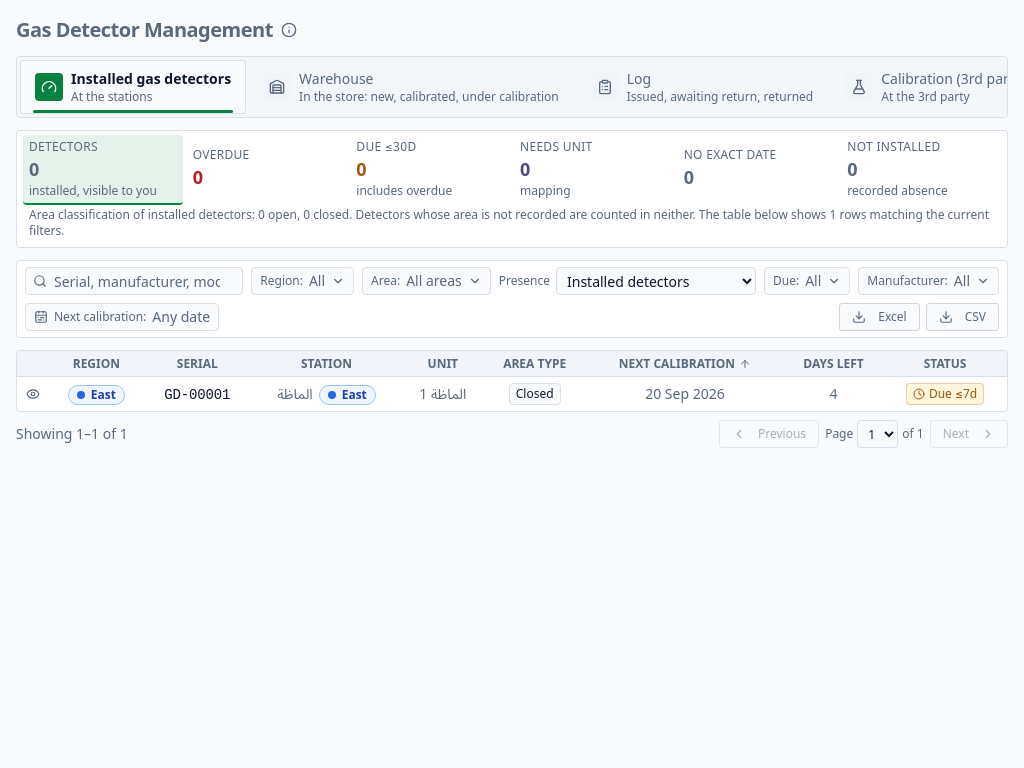
Scenario: Accessibility › exposes the technical record through a labelled disclosure control
Expected: the text "GD-00001" is shown, [164,386,230,402]
Click the button named "show the full technical record": (33, 394) [23,384,43,404]
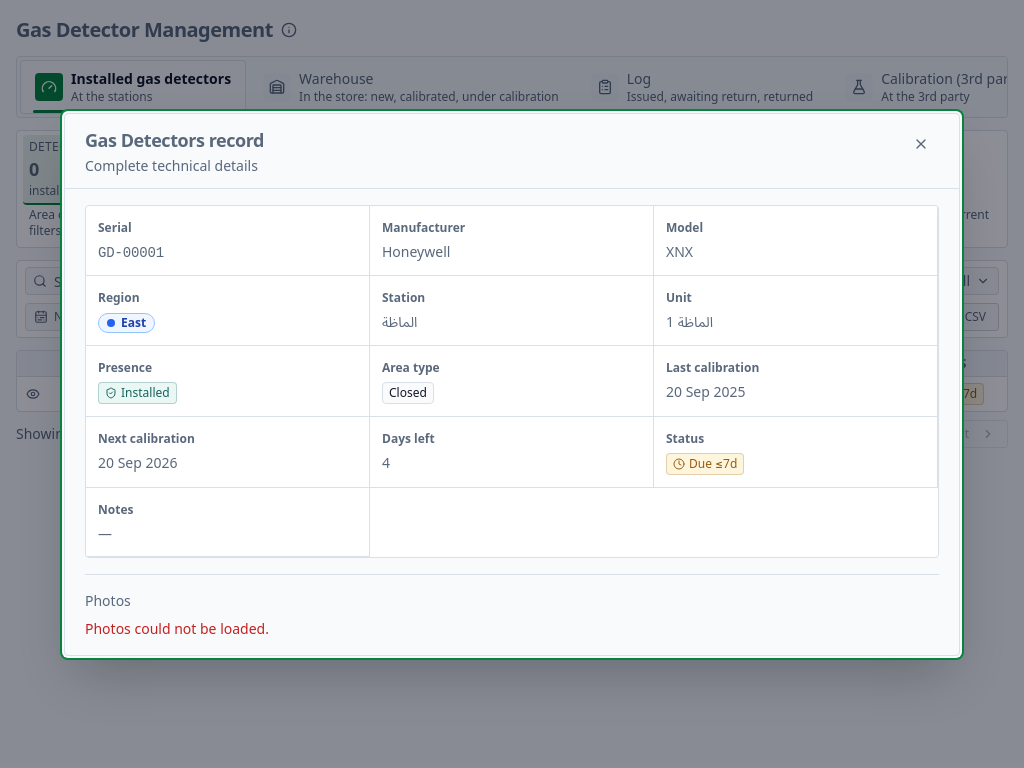
Expected: the button named "hide the full technical record" is expanded, [23,384,43,404]
